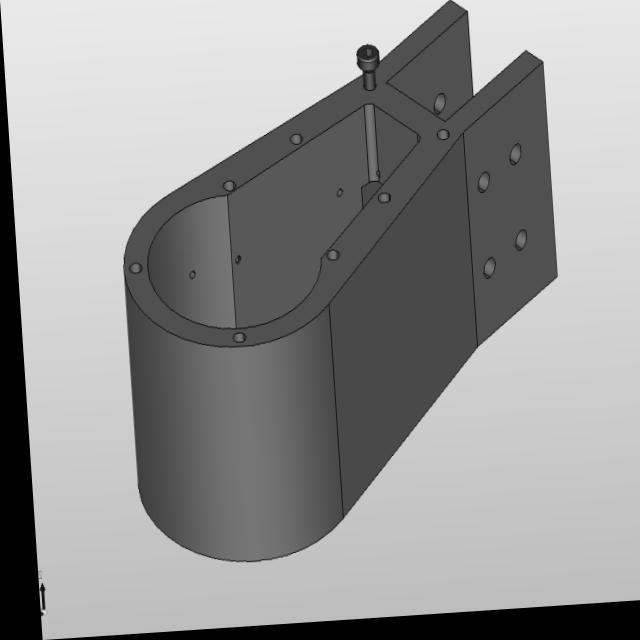screw: (347, 36, 387, 109)
